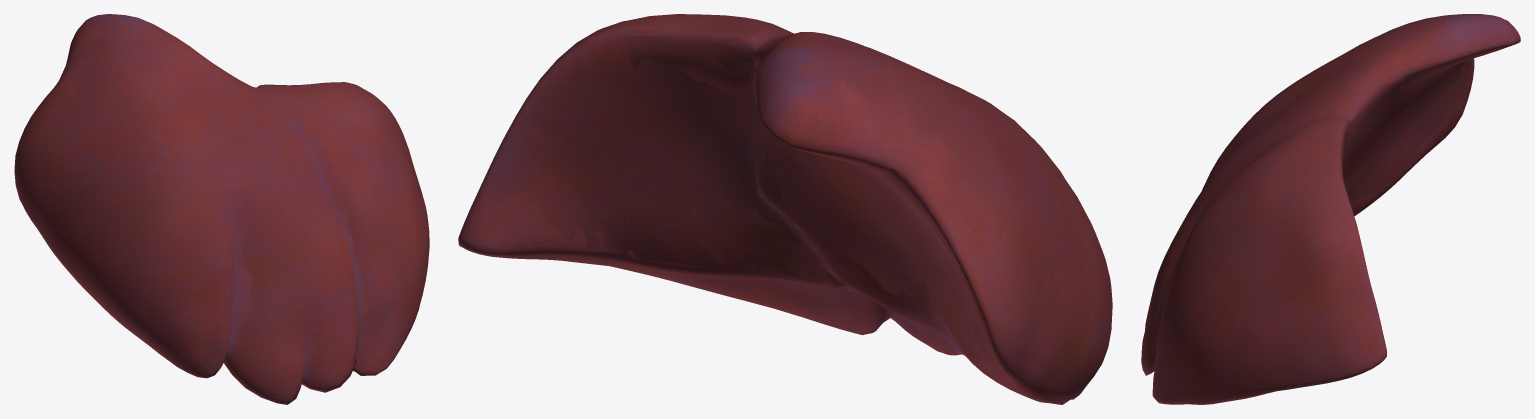
The model's file is Liver.fbx.
3 views of the same model, side by side, from view 1: azimuth 30°, elevation 25°; view 2: azimuth 150°, elevation 25°; view 3: azimuth 270°, elevation 25° (orthographic). The views are drawn at different scales.
Parts seen in each view (by area): view 1: Liver, Liver low; view 2: Liver, Liver low; view 3: Liver, Liver low.
Boxes of the visible parts, x1=… form: Liver: x1=14, y1=14, x2=429, y2=404; Liver low: x1=37, y1=28, x2=418, y2=398; Liver: x1=458, y1=14, x2=1112, y2=404; Liver low: x1=487, y1=26, x2=1092, y2=398; Liver: x1=1141, y1=14, x2=1520, y2=404; Liver low: x1=1143, y1=35, x2=1498, y2=371.
Bounding box in the file's own units: 41.35 × 32.67 × 34.44.
